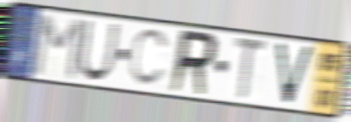C: (128, 28, 172, 90)
M: (29, 13, 86, 82)
R: (166, 27, 220, 99)
T: (233, 35, 269, 103)
U: (76, 18, 121, 83)
V: (273, 40, 317, 109)
